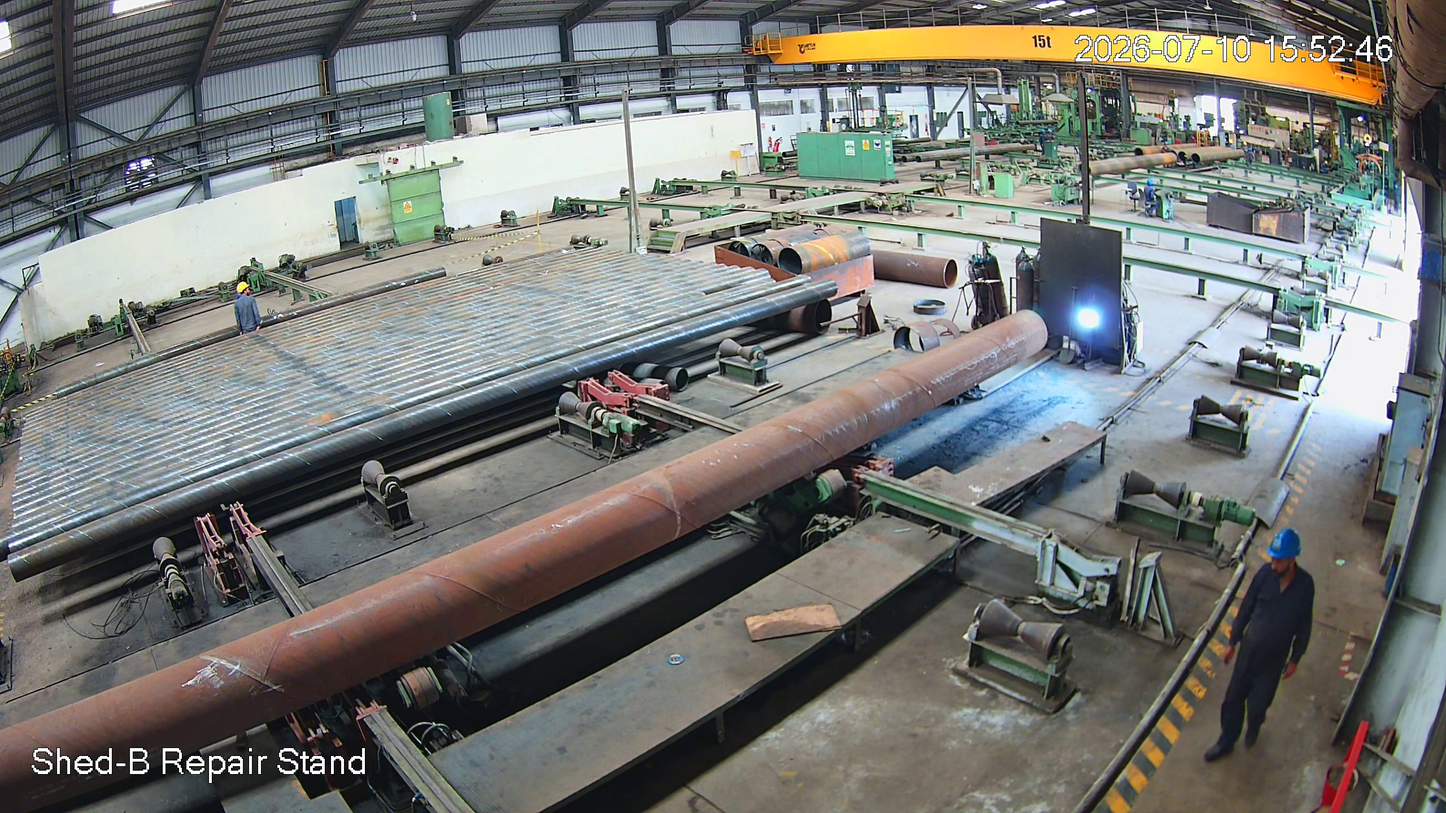Helmet: (1250, 520, 1326, 611), (235, 279, 256, 302)
Person: (1181, 529, 1319, 784), (229, 281, 262, 339)
